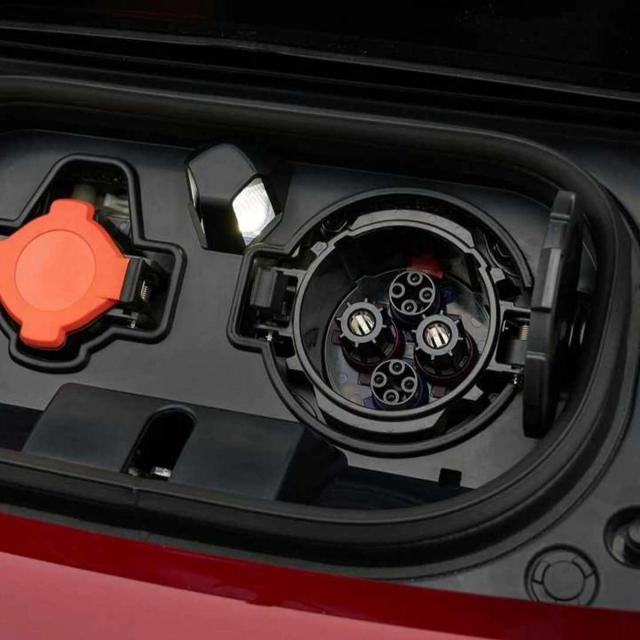CHAdeMO: (261, 209, 532, 441)
